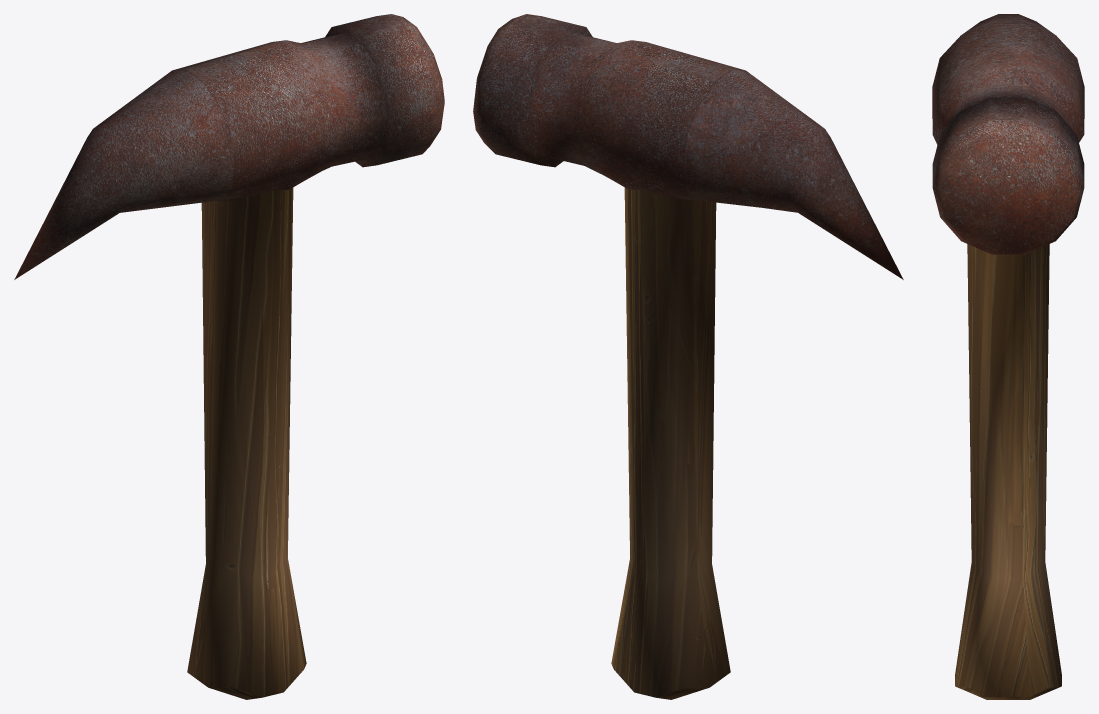
Rendered from Molot.fbx.
3 views of the same model, side by side, from view 1: azimuth 30°, elevation 25°; view 2: azimuth 150°, elevation 25°; view 3: azimuth 270°, elevation 25° (orthographic). The views are drawn at different scales.
Visible parts, largest first — view 1: Cylinder; view 2: Cylinder; view 3: Cylinder.
Boxes of the visible parts, bbox=[...] form: Cylinder: bbox=[14, 14, 444, 699]; Cylinder: bbox=[473, 14, 903, 699]; Cylinder: bbox=[932, 14, 1084, 699].
Bounding box in the file's own units: 622 × 946 × 200.
1 material, 1 textured.
